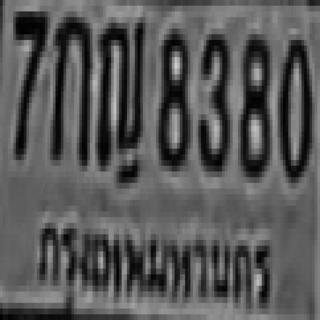A01: (48, 6, 90, 160)
A13: (96, 11, 144, 166)
N00: (278, 34, 309, 177)
N03: (196, 29, 227, 166)
N07: (10, 6, 45, 154)
N08: (156, 23, 188, 166), (238, 29, 270, 171)
P04: (26, 198, 278, 319)
